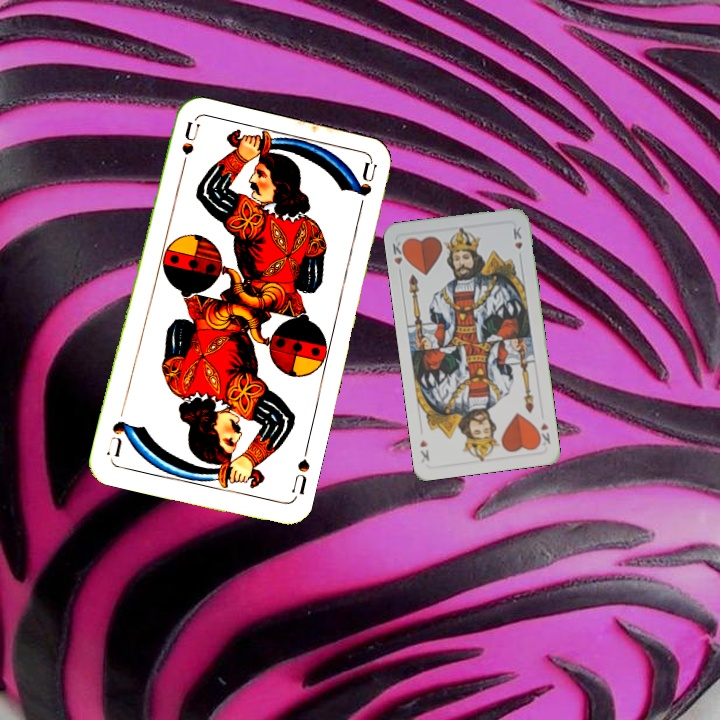HK: (388, 236, 409, 278), (533, 419, 553, 450)
SU: (176, 118, 202, 178), (287, 455, 312, 502)
